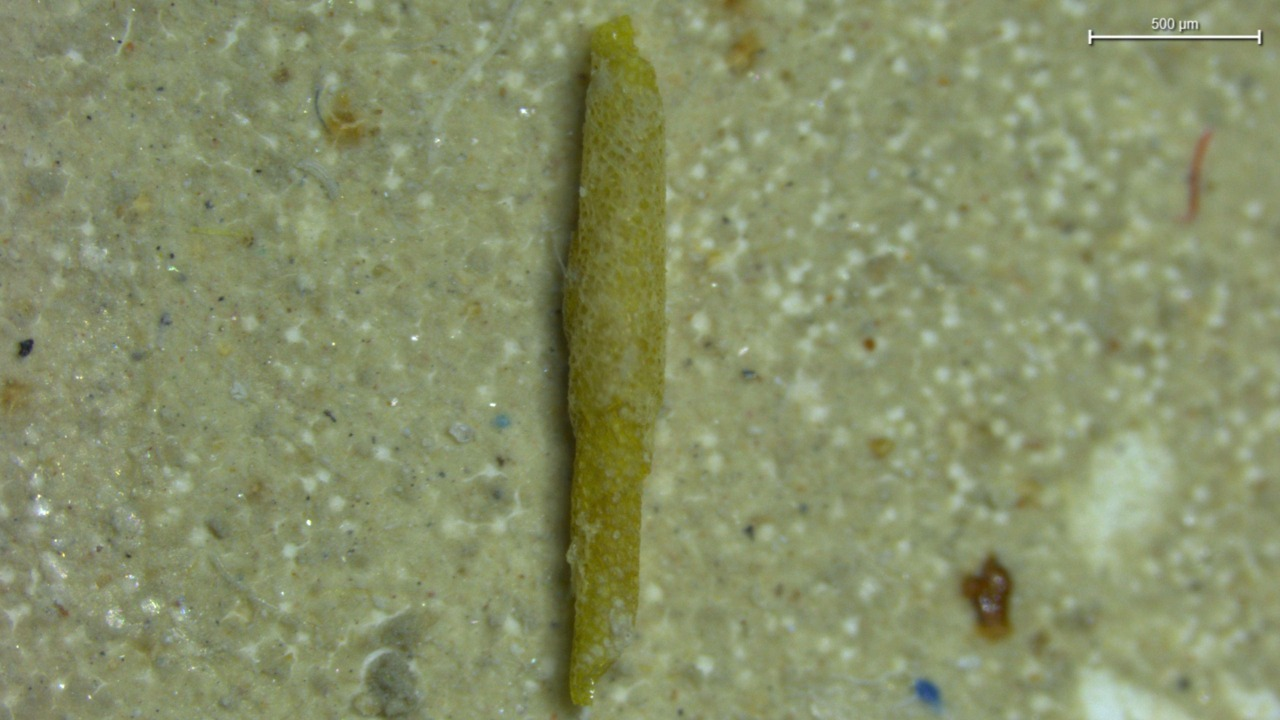microplastic_fragment: (564, 16, 666, 705)
